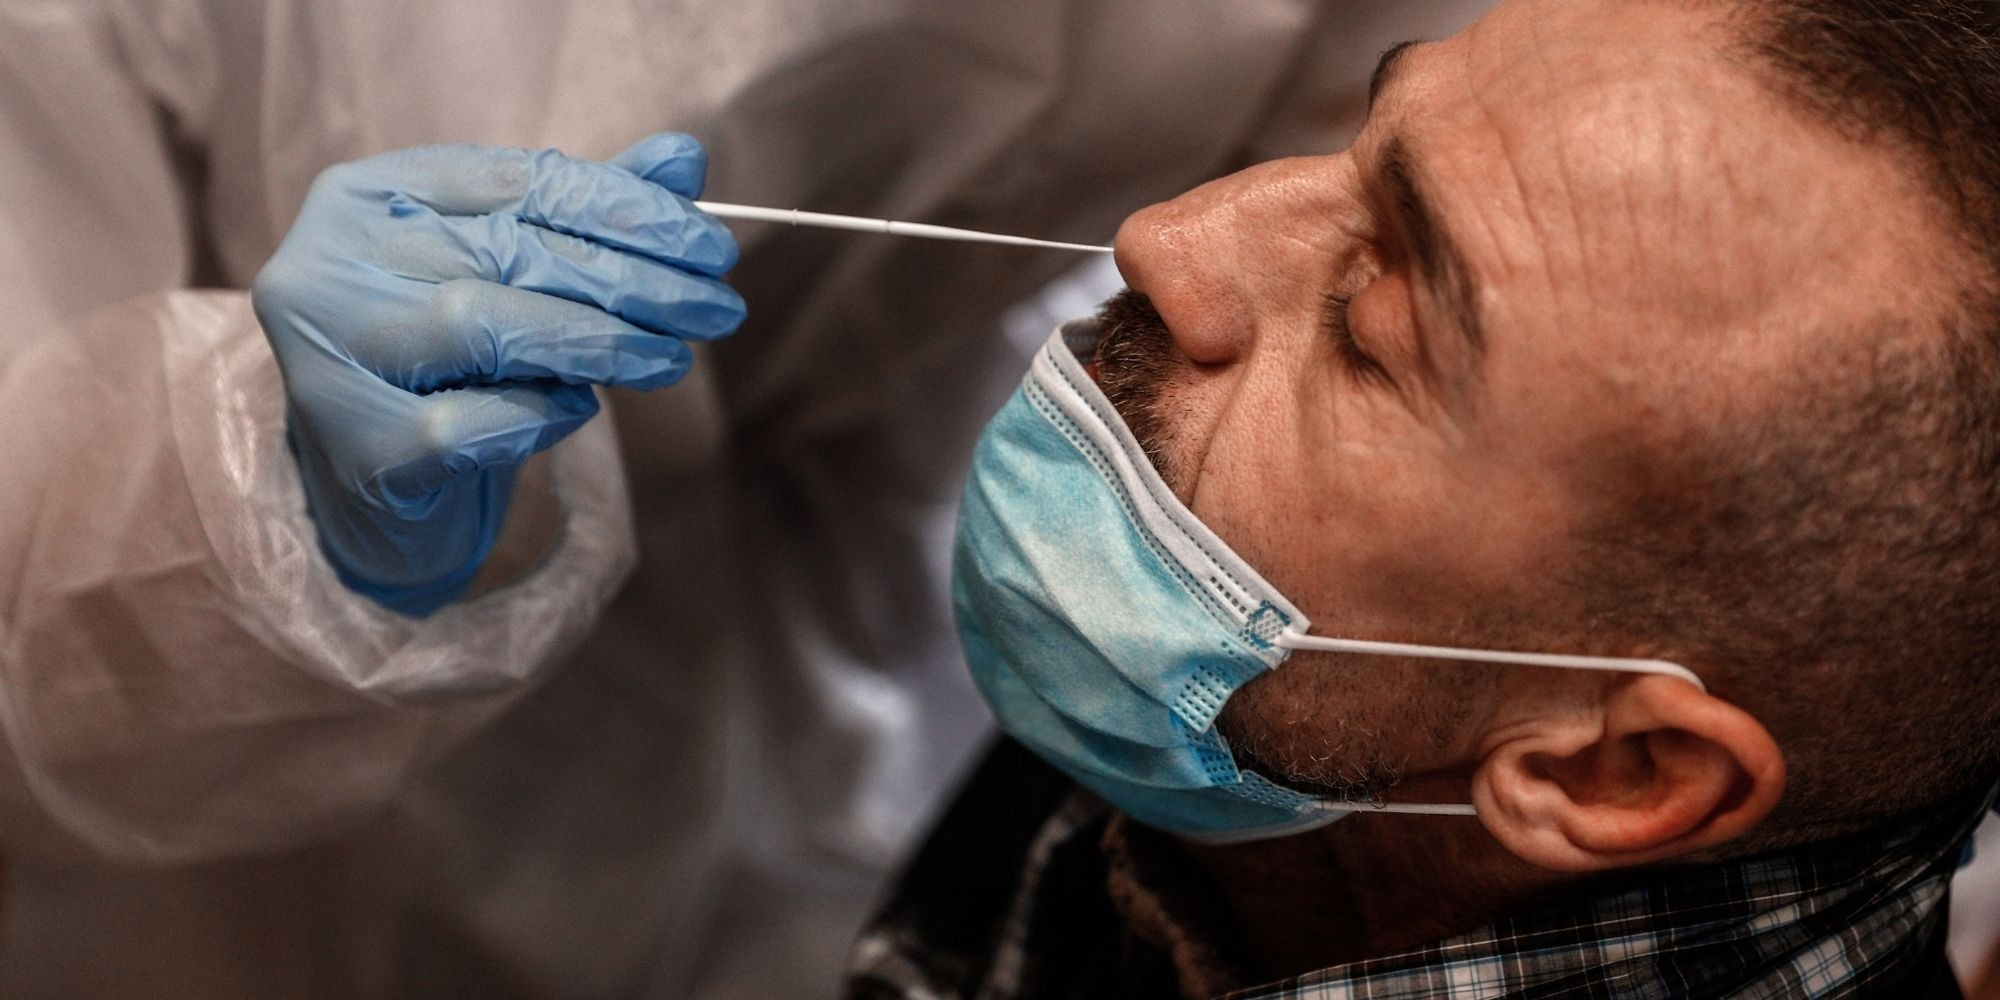with_incorrect_mask: (928, 109, 1580, 782)
